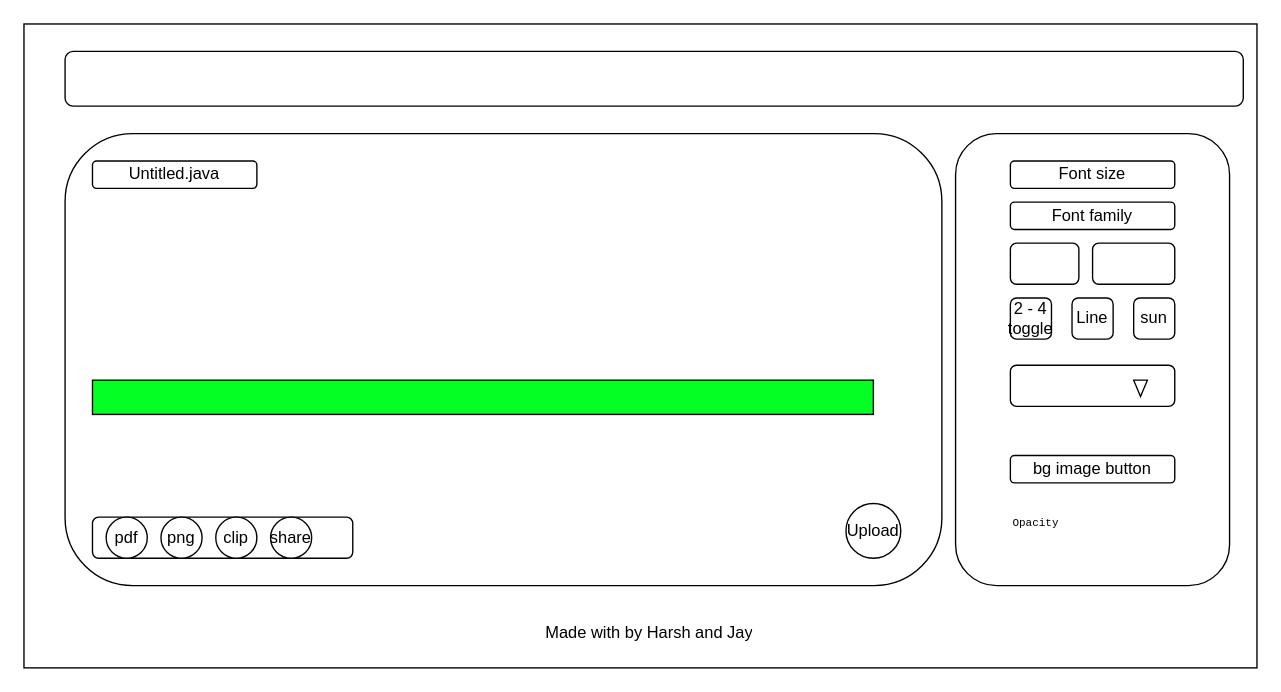
Image size: 1281x692. Some labels were removed from this diagram. The shapes that lost their labels are listed below. From the top down, each one's box as (x1, y1, x2, y2) in pixels, then its label:
(1009, 242, 1079, 284): Line height
(1091, 242, 1175, 284): Letter spacing
(64, 132, 942, 586): Code
(1009, 364, 1175, 406): Theme
